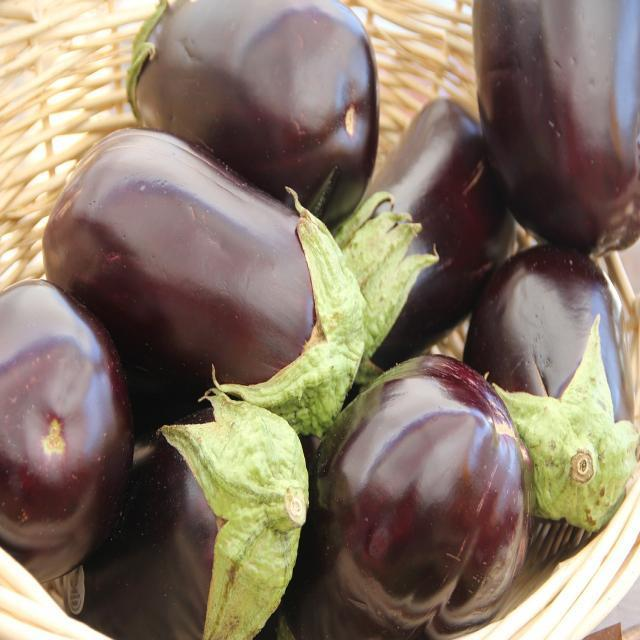eggplant: (41, 130, 357, 446), (322, 349, 537, 640), (78, 384, 310, 640), (124, 0, 380, 226), (468, 238, 640, 554), (328, 94, 520, 368), (473, 0, 640, 256), (0, 279, 129, 585)
